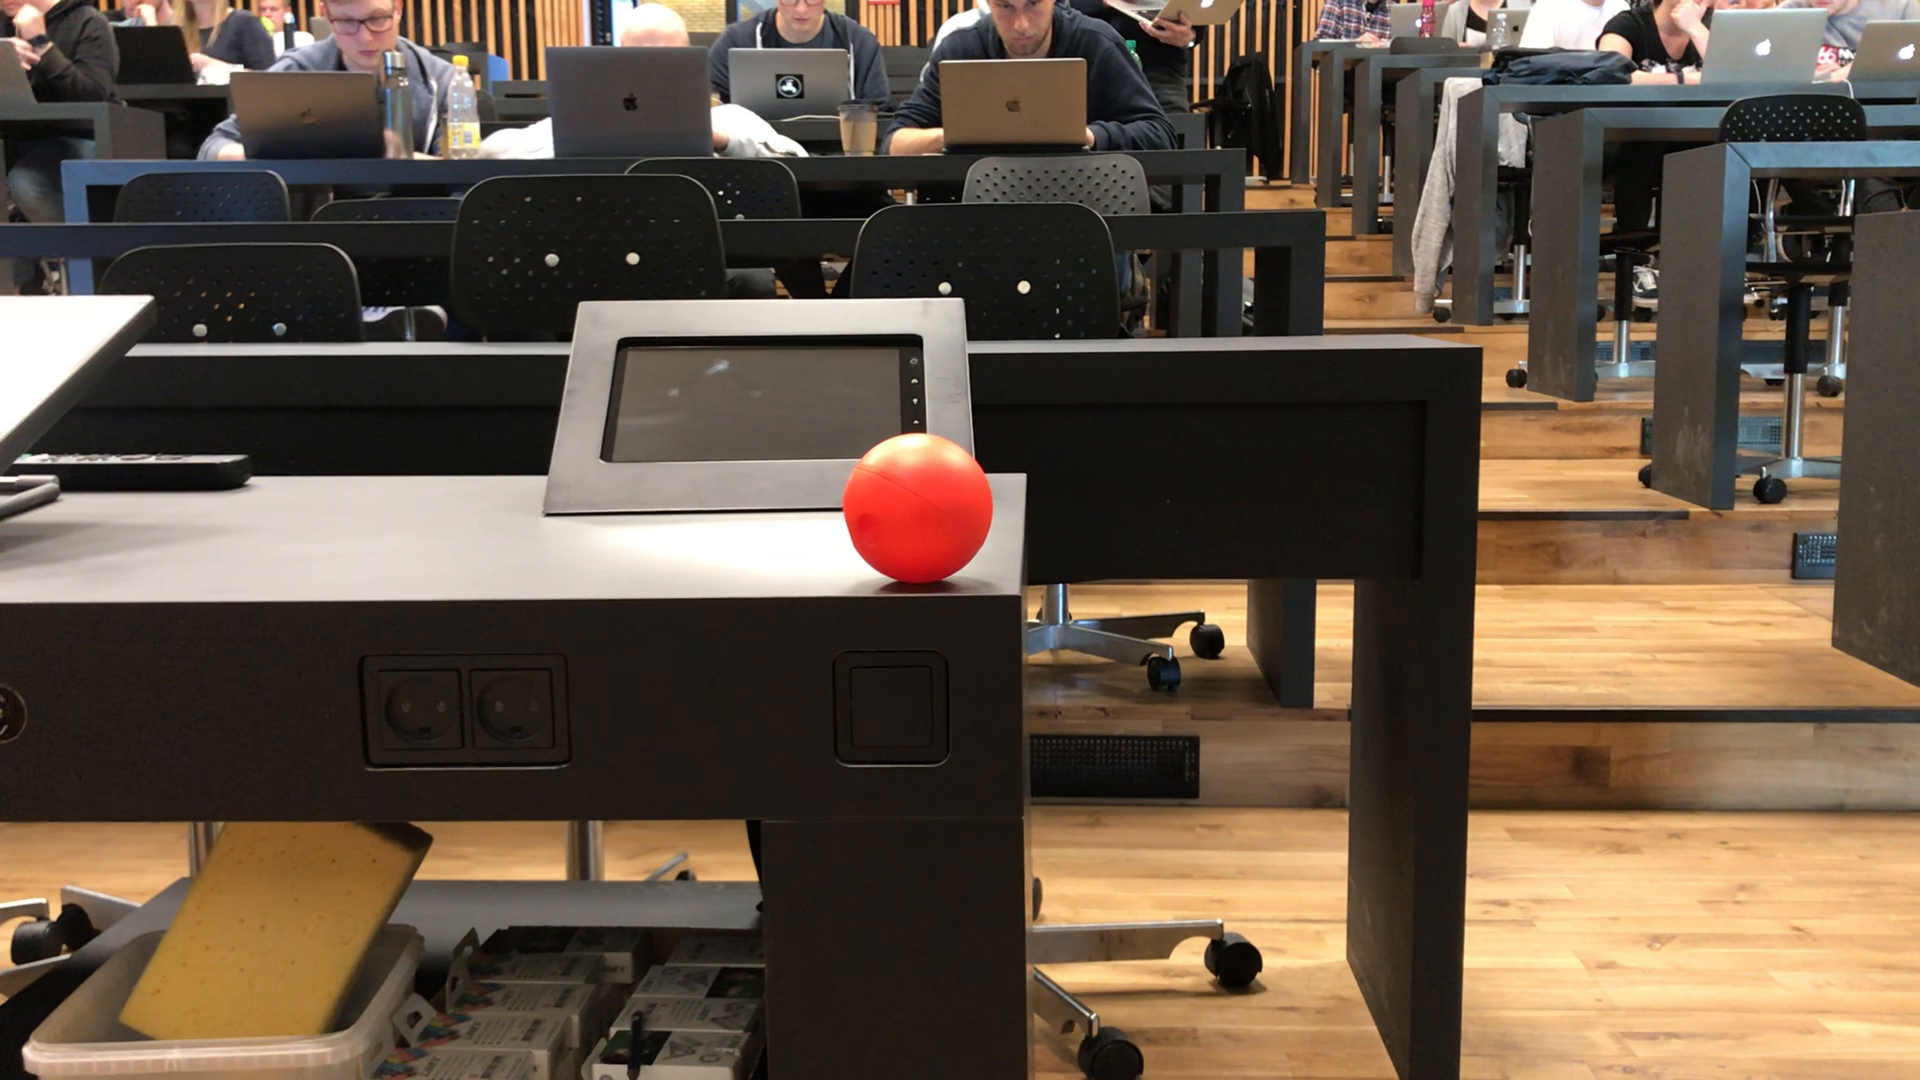Ball: (843, 434, 996, 580)
